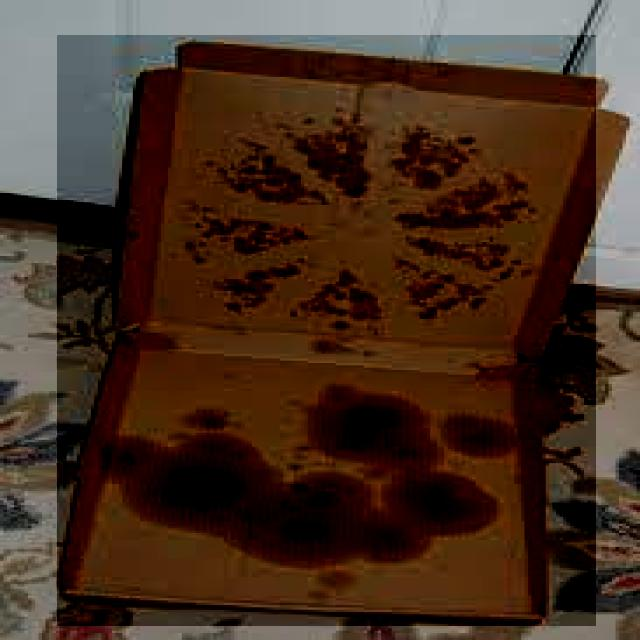Food Carton: (57, 35, 596, 626)
